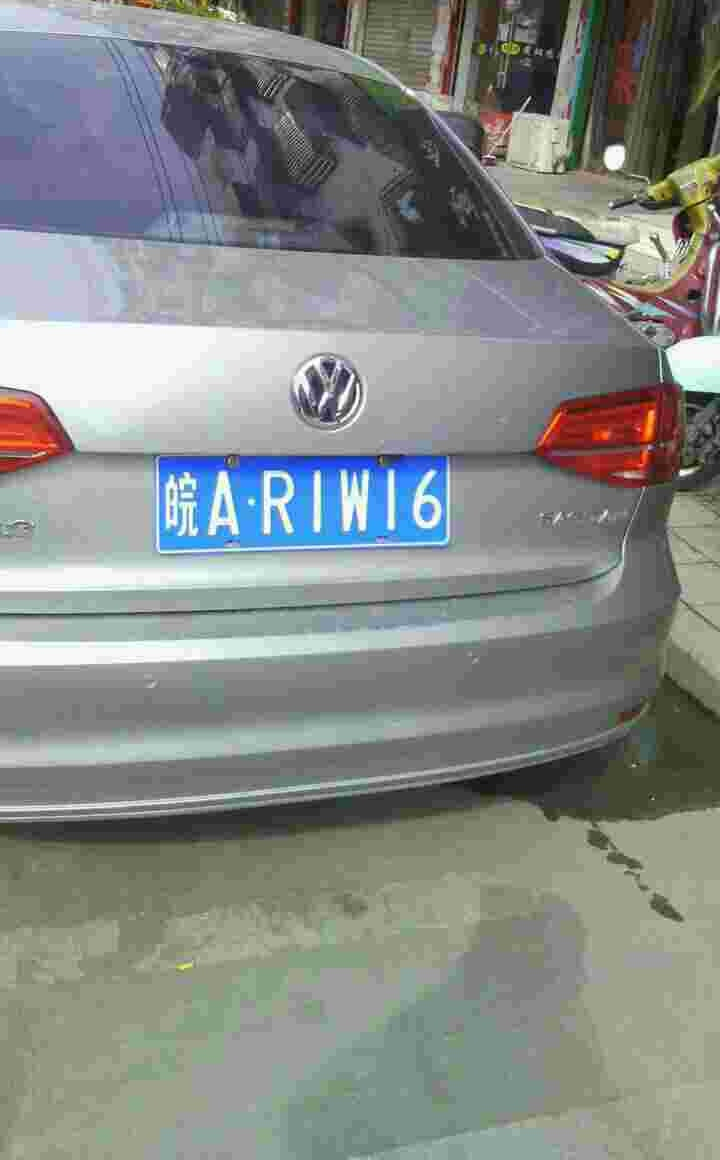license_plate: (158, 462, 445, 549)
